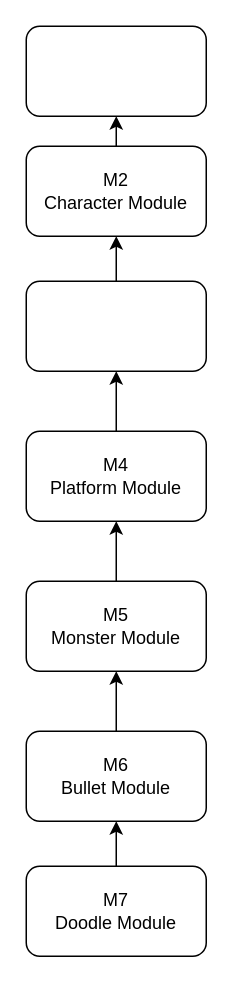
Image size: 233x983. Some labels were removed from this diagram. Here are the shapes that lost their labels. From the top down, the centre of each, then its label:
At (x=115, y=70): "M1 GameShell Module".
At (x=115, y=325): "M3 Person Module".
